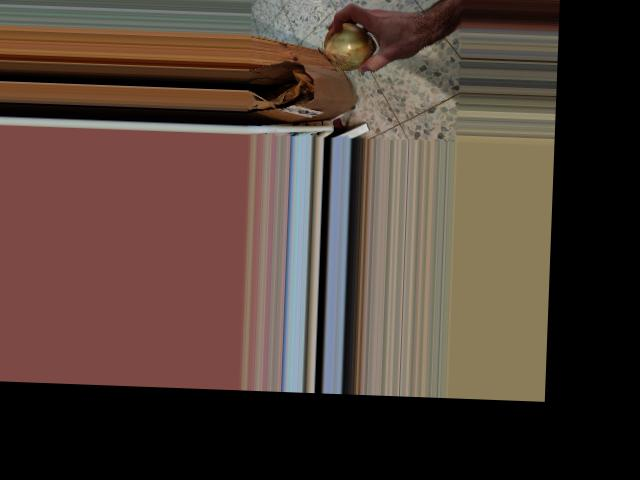onion: (313, 19, 379, 72)
